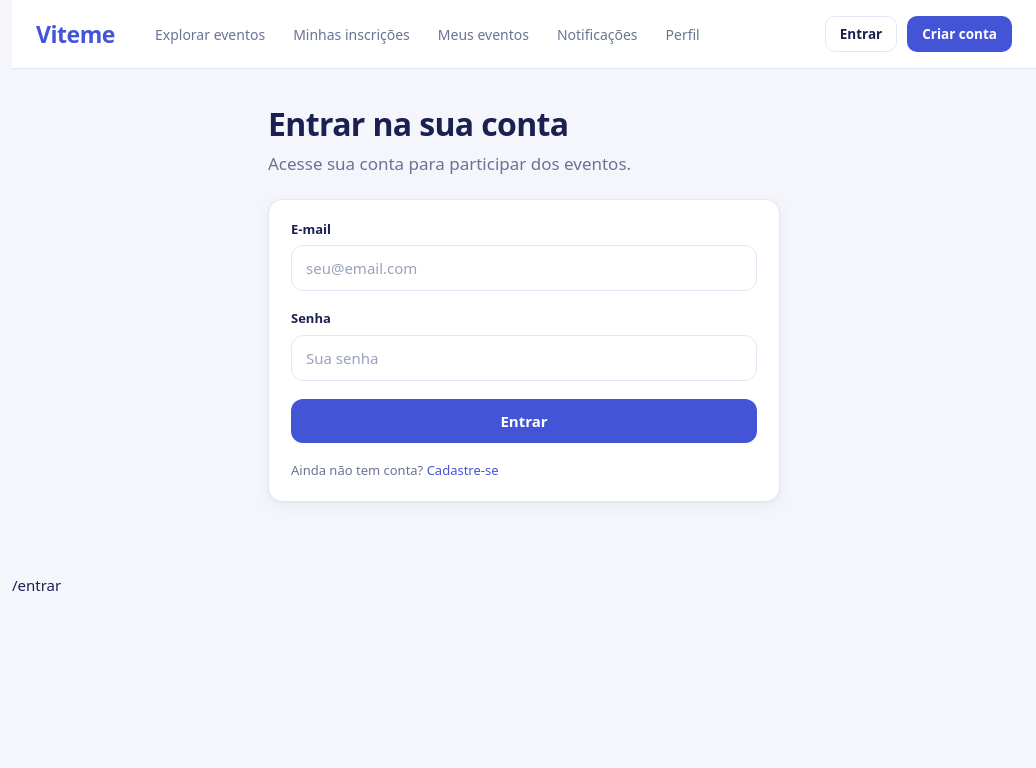
Scenario: login e cadastro › CTW02 — conta bloqueada (423) informa o bloqueio temporário
Type "maria@exemplo.com" into the field labelled "E-mail". click: (524, 268)
box: [291,245,757,291]
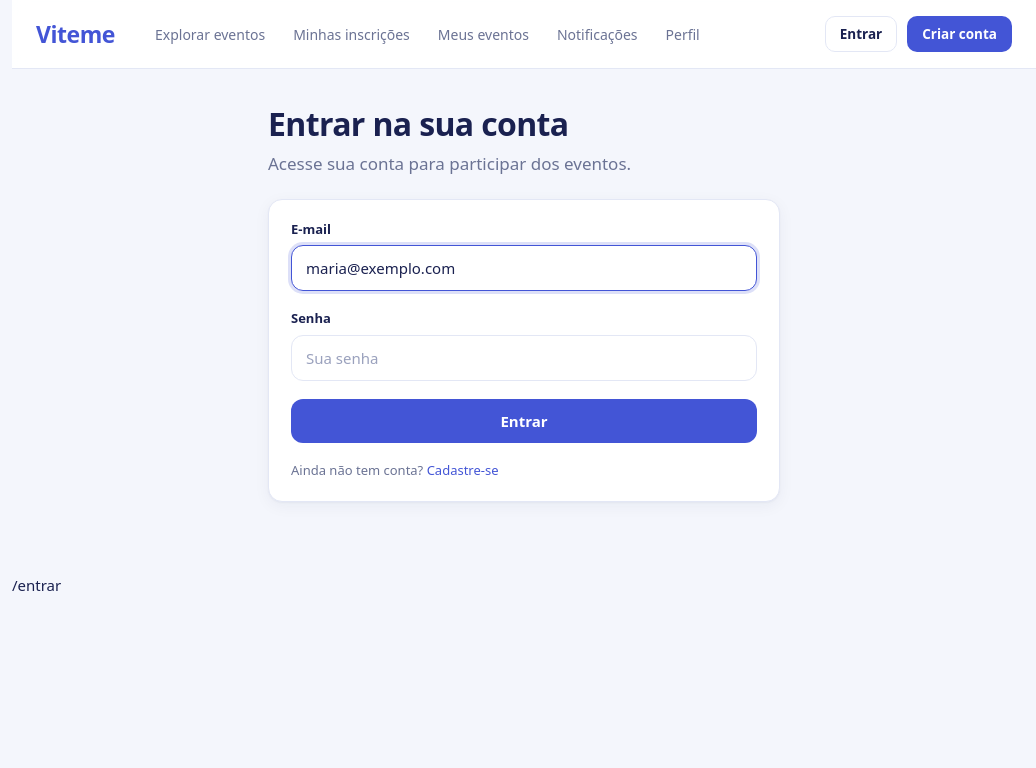
Type "qualquer1" into the password field labelled "Senha". click: (524, 358)
box: [291,335,757,381]
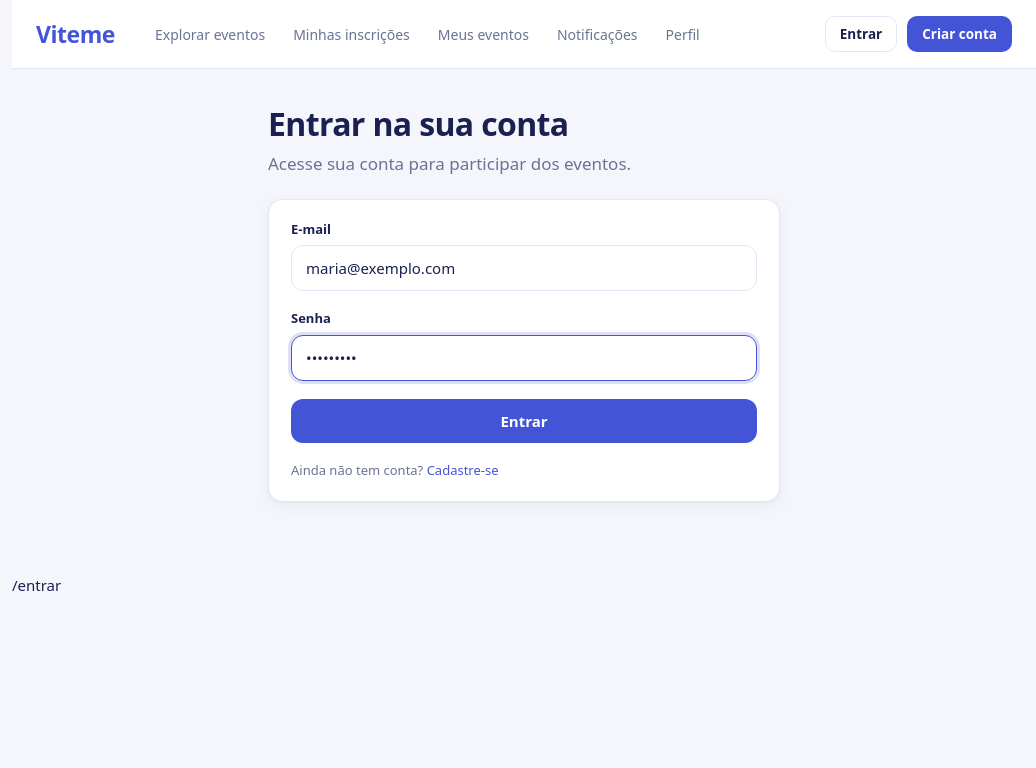
Click the button "Entrar". click: click(524, 421)
box: [291,399,757,443]
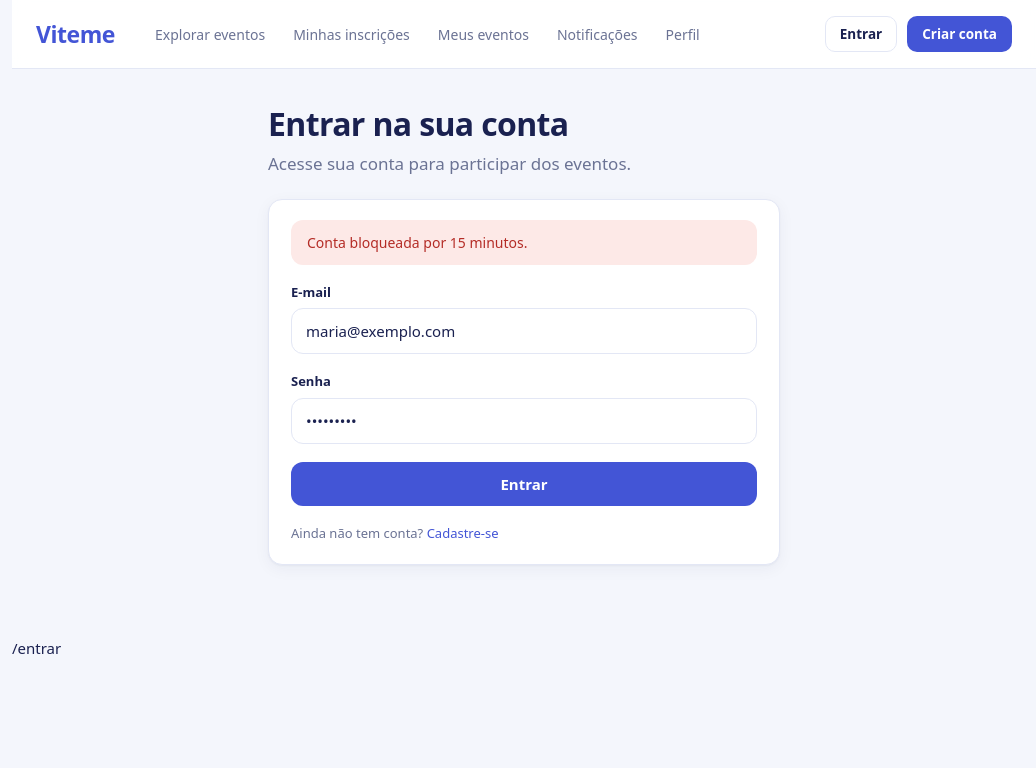
Expected: the message reads "Conta bloqueada por 15 minutos.", [307,233,528,252]
